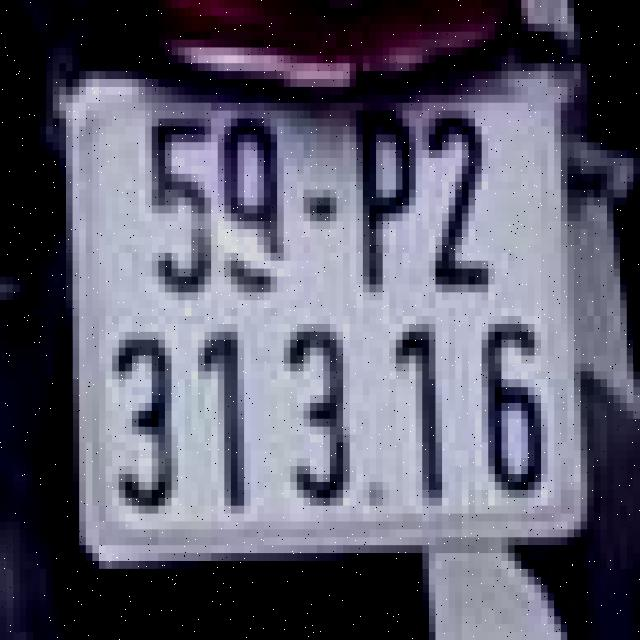1: (386, 312, 472, 518), (184, 324, 270, 521)
2: (419, 103, 505, 300)
3: (106, 320, 192, 518), (280, 312, 360, 510)
5: (135, 115, 221, 304)
6: (472, 308, 558, 506)
9: (218, 111, 290, 308)
P: (337, 99, 422, 304)
